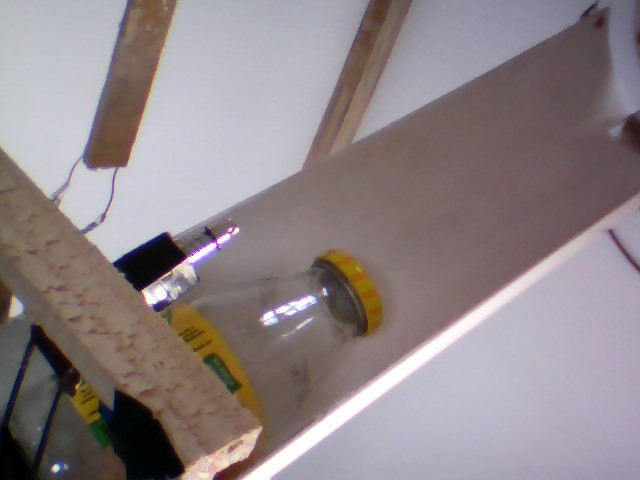vidrio: (172, 240, 392, 440)
